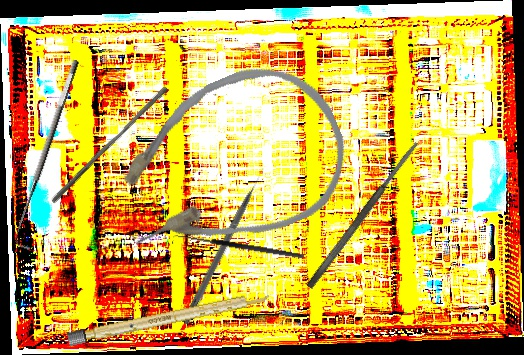Cannula: (89, 44, 367, 283)
Hook Surgical: (6, 58, 94, 254), (171, 232, 305, 266)
Pusher: (49, 81, 170, 209), (181, 166, 269, 326)
Scalpel Handle: (66, 289, 271, 347)
Spatula Surgical: (304, 140, 422, 290)
